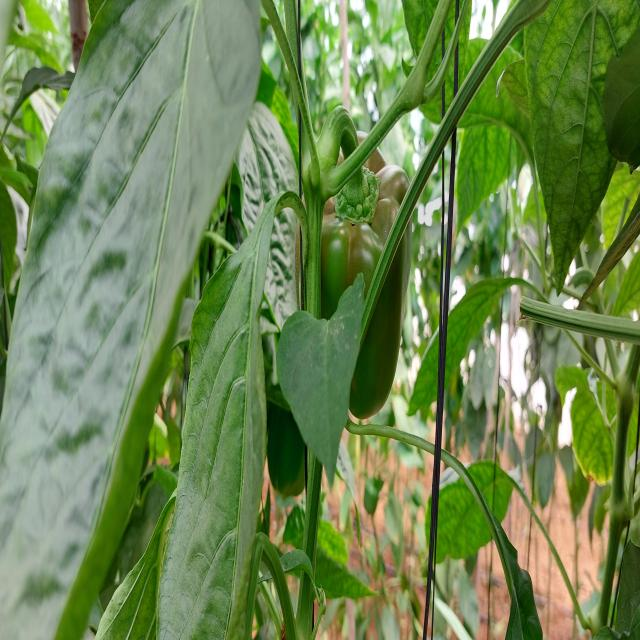BrownishRed--Can-be-Harvested: (304, 148, 419, 466)
